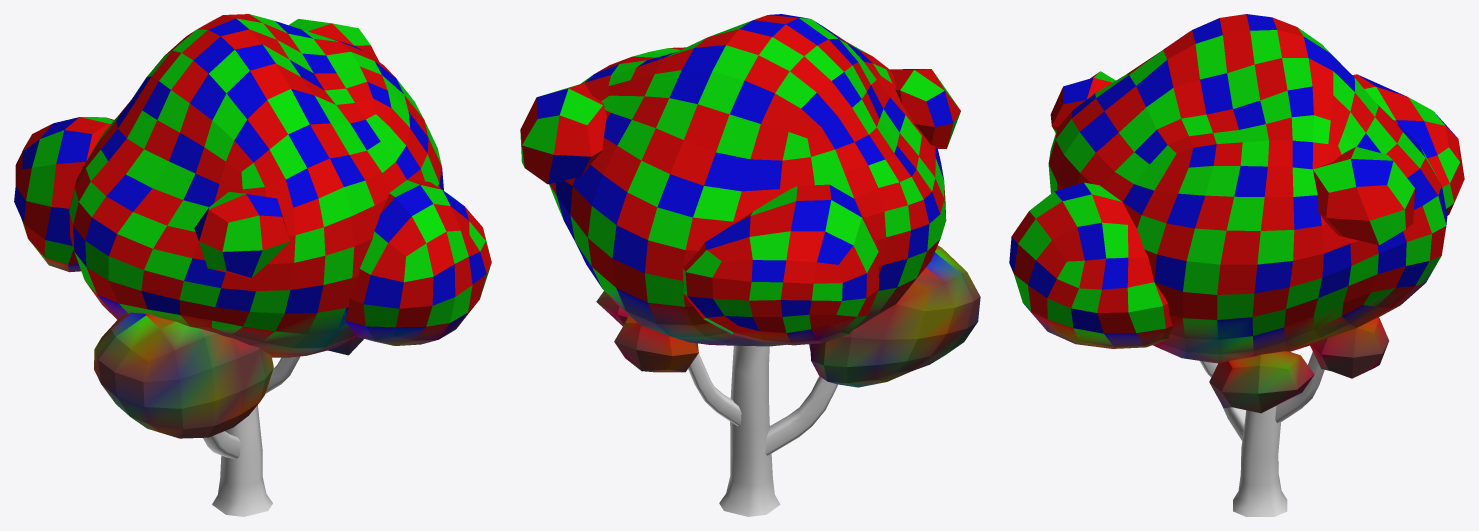
File: Tree_C_04.fbx
3 views of the same model, side by side, from view 1: azimuth 30°, elevation 25°; view 2: azimuth 150°, elevation 25°; view 3: azimuth 270°, elevation 25° (orthographic).
Parts seen in each view (by area): view 1: Tree_C_04_Leaves, Tree_C_04_Trunk; view 2: Tree_C_04_Leaves, Tree_C_04_Trunk; view 3: Tree_C_04_Leaves, Tree_C_04_Trunk.
Part boxes in pixels (x1=…): Tree_C_04_Leaves: x1=14, y1=14, x2=491, y2=438; Tree_C_04_Trunk: x1=203, y1=356, x2=300, y2=516; Tree_C_04_Leaves: x1=520, y1=14, x2=980, y2=387; Tree_C_04_Trunk: x1=688, y1=345, x2=837, y2=516; Tree_C_04_Leaves: x1=1009, y1=14, x2=1464, y2=413; Tree_C_04_Trunk: x1=1199, y1=351, x2=1324, y2=516.
Bounding box in the file's own units: 3.9 × 4.89 × 4.22.
